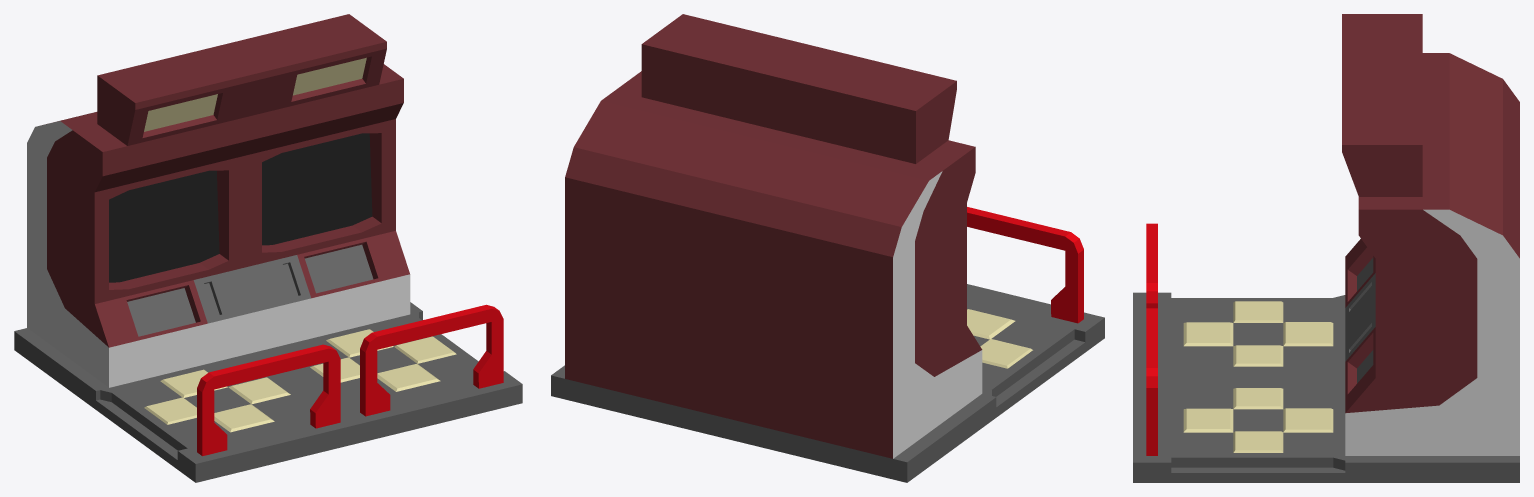
The model's file is MP_Ass2_DanceMach.fbx.
The picture shows the model from 3 angles, left to right: view 1: azimuth 30°, elevation 25°; view 2: azimuth 150°, elevation 25°; view 3: azimuth 270°, elevation 25°; orthographic projection. The views are drawn at different scales.
Visible parts, largest first — view 1: DanceMachine; view 2: DanceMachine; view 3: DanceMachine.
Boxes of the visible parts, x1,y1,x2,y2 form: DanceMachine: (14,14,522,482); DanceMachine: (551,14,1104,482); DanceMachine: (1133,14,1519,482).
Size of the model in its own units: 786 by 686 by 756.
